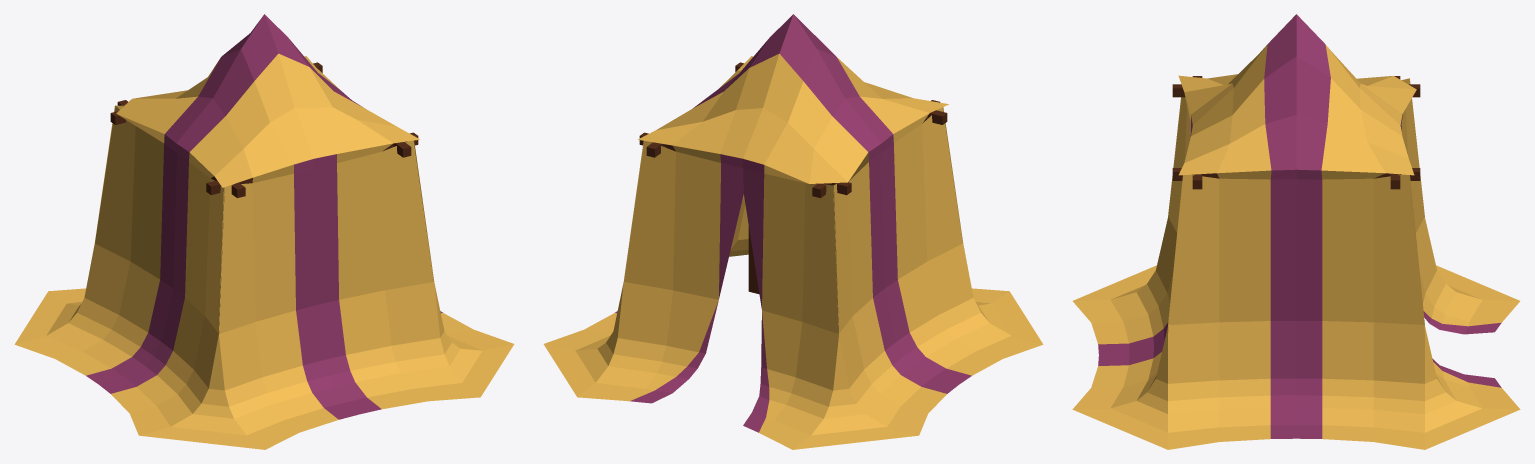
Rendered from TiendaAMykker.fbx.
3 renders of one model, left to right at view 1: azimuth 30°, elevation 25°; view 2: azimuth 150°, elevation 25°; view 3: azimuth 270°, elevation 25°, orthographic. The views are drawn at different scales.
Parts seen in each view (by area): view 1: Tienda.004; view 2: Tienda.004; view 3: Tienda.004.
Part boxes in pixels (x1,y1,x2,y2): Tienda.004: (14,14,514,449); Tienda.004: (543,14,1043,449); Tienda.004: (1072,14,1520,449).
Bounding box in the file's own units: 453 × 382 × 453.
